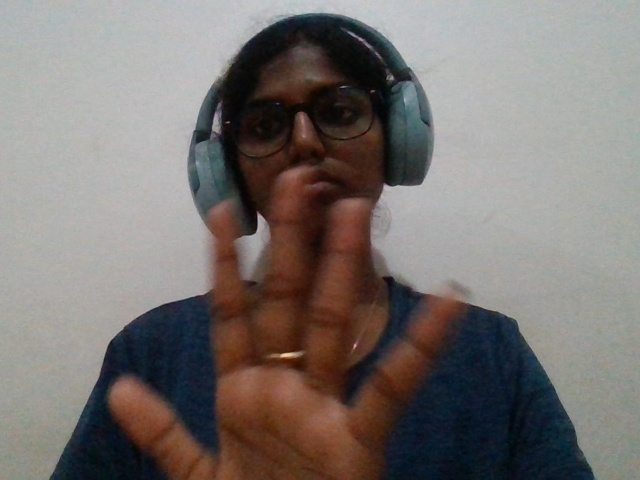Bye: (90, 123, 596, 480)
